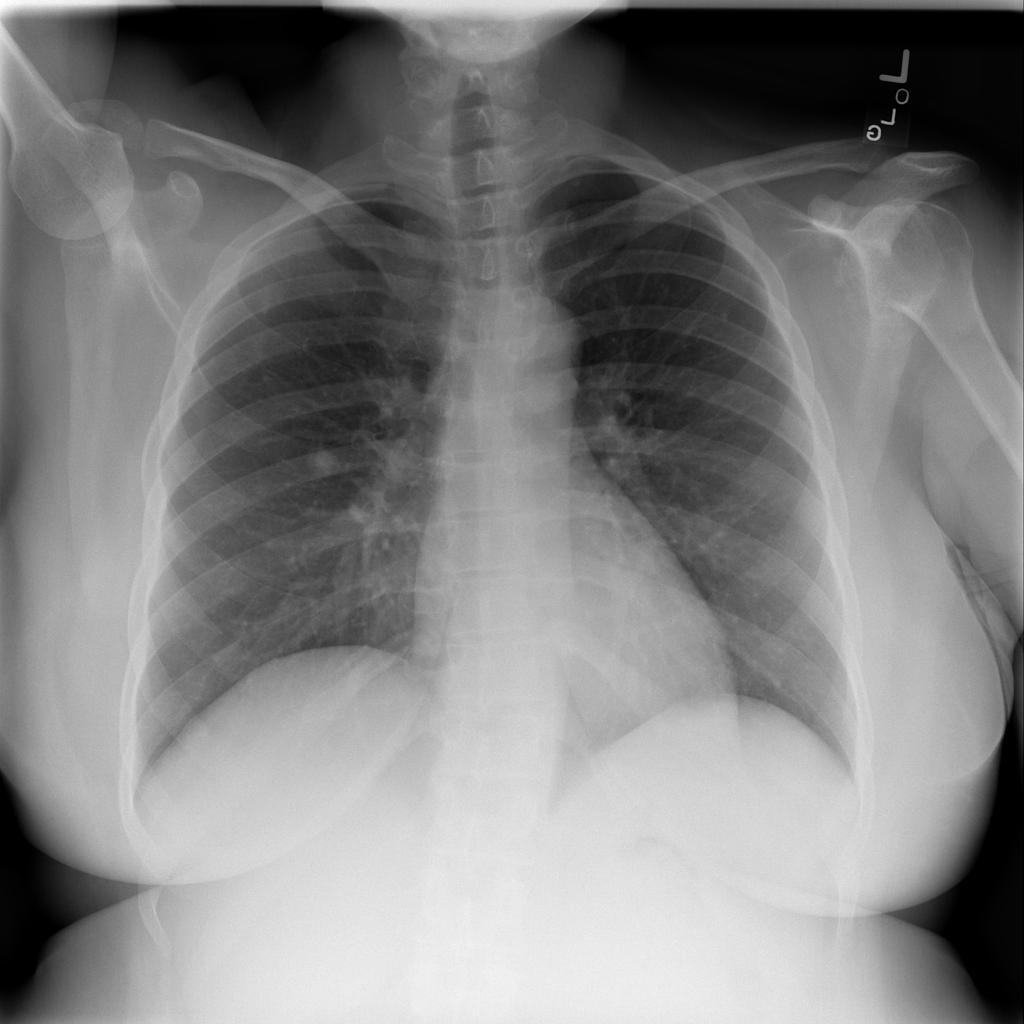nodule: (295, 436, 350, 484)
